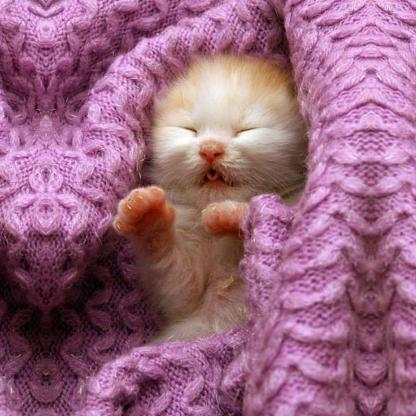Cat: (108, 50, 306, 342)
